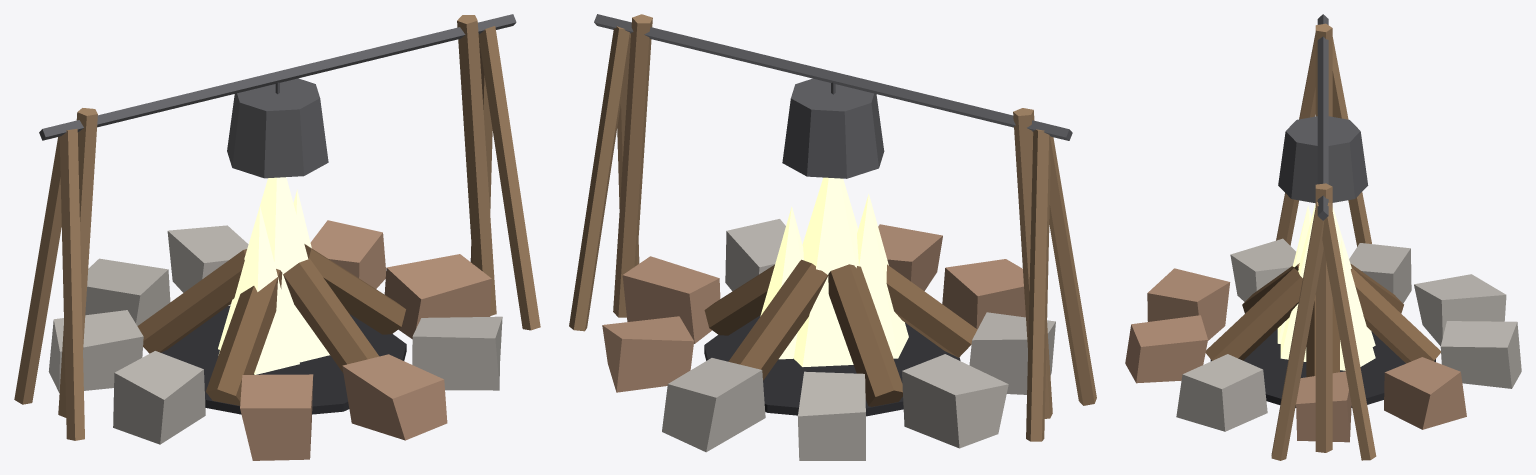
The model's file is SM_Campfire.fbx.
3 views of the same model, side by side, from view 1: azimuth 30°, elevation 25°; view 2: azimuth 150°, elevation 25°; view 3: azimuth 270°, elevation 25° (orthographic). The views are drawn at different scales.
Visible parts, largest first — view 1: SM_Campfire; view 2: SM_Campfire; view 3: SM_Campfire.
Boxes of the visible parts, x1,y1,x2,y2 form: SM_Campfire: [14, 14, 540, 460]; SM_Campfire: [569, 14, 1096, 460]; SM_Campfire: [1125, 14, 1521, 460].
Size of the model in its own units: 124 by 76.5 by 106.
